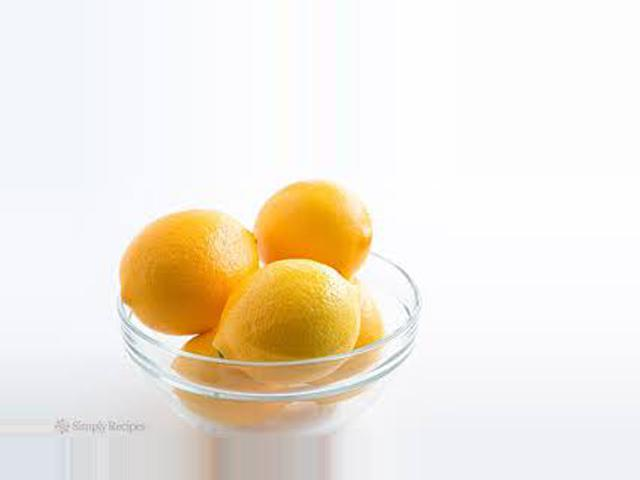lemon: (110, 207, 265, 315)
